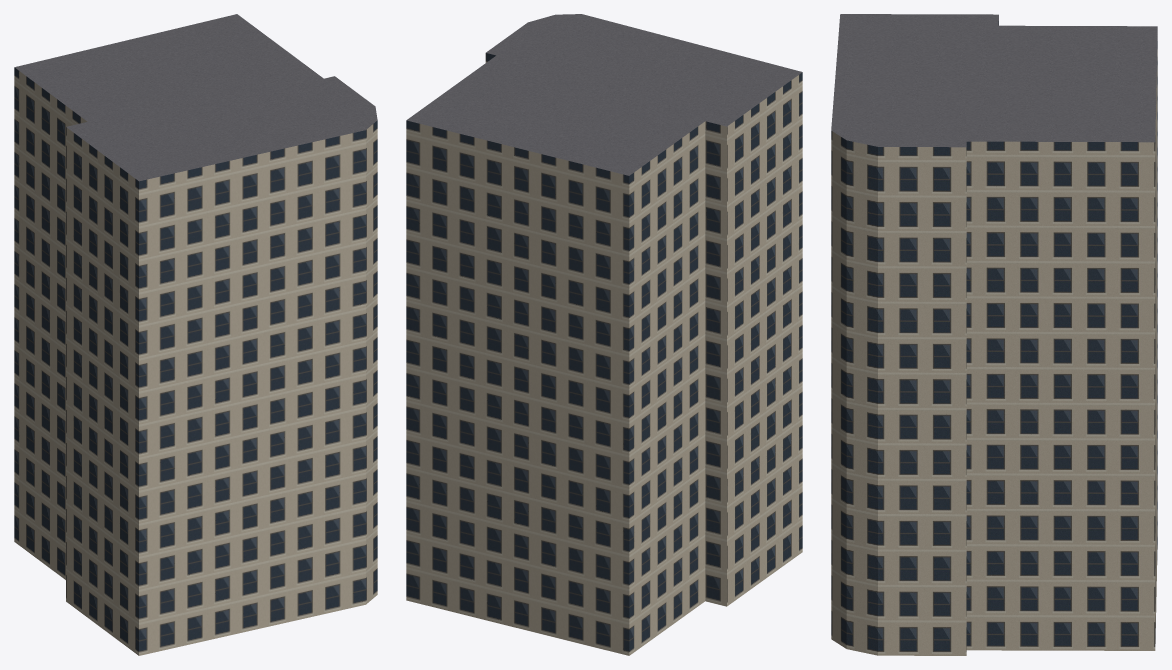
The model's file is bin1016227.glb.
The picture shows the model from 3 angles, left to right: view 1: azimuth 30°, elevation 25°; view 2: azimuth 150°, elevation 25°; view 3: azimuth 270°, elevation 25°; orthographic projection. The views are drawn at different scales.
Parts seen in each view (by area): view 1: c14, c10, c4, c19, c12, c13, c15, c11, c0, c17, c18, c16 (+4 smaller); view 2: c4, c0, c2, c3, c1, c14, c9, c5, c7, c8, c6, c19 (+4 smaller); view 3: c19, c15, c17, c18, c16, c9, c5, c14, c7, c8, c6, c4.
Part boxes in pixels (bbox=[...]): c14: bbox=[105, 61, 262, 267]; c10: bbox=[105, 510, 262, 655]; c4: bbox=[14, 37, 186, 241]; c19: bbox=[258, 57, 377, 239]; c12: bbox=[105, 331, 262, 451]; c13: bbox=[105, 239, 262, 358]; c15: bbox=[263, 477, 377, 627]; c11: bbox=[105, 424, 262, 537]; c0: bbox=[14, 424, 104, 630]; c17: bbox=[263, 298, 377, 423]; c18: bbox=[263, 206, 377, 330]; c16: bbox=[263, 391, 377, 509]; c4: bbox=[501, 97, 767, 262]; c0: bbox=[501, 458, 767, 655]; c2: bbox=[501, 277, 767, 449]; c3: bbox=[501, 184, 767, 355]; c1: bbox=[501, 371, 767, 536]; c14: bbox=[493, 40, 802, 183]; c9: bbox=[406, 76, 531, 230]; c5: bbox=[406, 481, 501, 623]; c7: bbox=[406, 300, 501, 417]; c8: bbox=[406, 207, 501, 323]; c6: bbox=[406, 394, 501, 504]; c19: bbox=[467, 14, 681, 88]; c19: bbox=[831, 77, 1039, 239]; c15: bbox=[831, 513, 1027, 655]; c17: bbox=[831, 321, 1027, 437]; c18: bbox=[831, 223, 1027, 337]; c16: bbox=[831, 421, 1027, 529]; c9: bbox=[1028, 92, 1156, 234]; c5: bbox=[1028, 486, 1156, 650]; c14: bbox=[835, 14, 1075, 125]; c7: bbox=[1028, 294, 1156, 432]; c8: bbox=[1028, 196, 1156, 332]; c6: bbox=[1028, 394, 1156, 524]; c4: bbox=[914, 14, 1157, 179].
Size of the model in its own units: 28.24 by 50.29 by 29.26.
3 materials, 3 textured.
